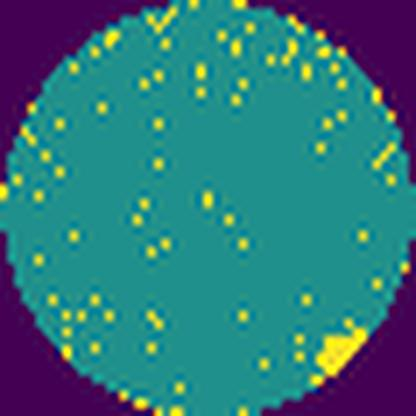Edge-Loc: (309, 321, 375, 383)
